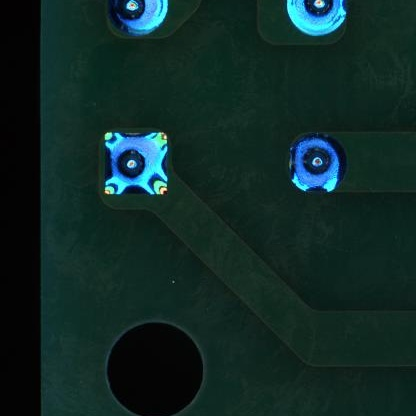spot: (105, 134, 168, 192), (290, 135, 346, 192), (285, 1, 349, 39), (109, 1, 169, 36)
